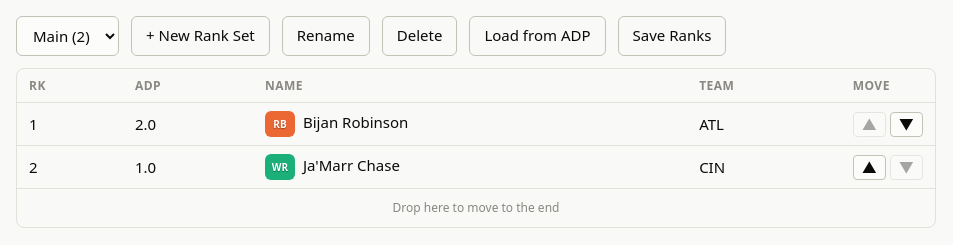
Scenario: RankingsPage › Save Ranks sends the current order to the selected rank set
expect the text "Bijan Robinson" is shown: met, box [303, 112, 408, 132]
Click the button "Save Ranks": {"x": 672, "y": 36} [618, 16, 726, 56]
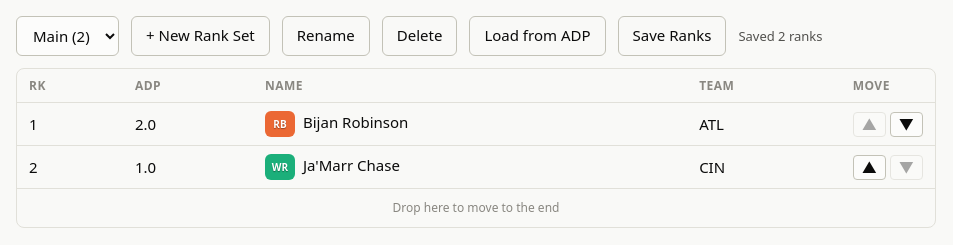
expect the text "Saved 2 ranks" is shown: met, box [738, 27, 823, 45]
